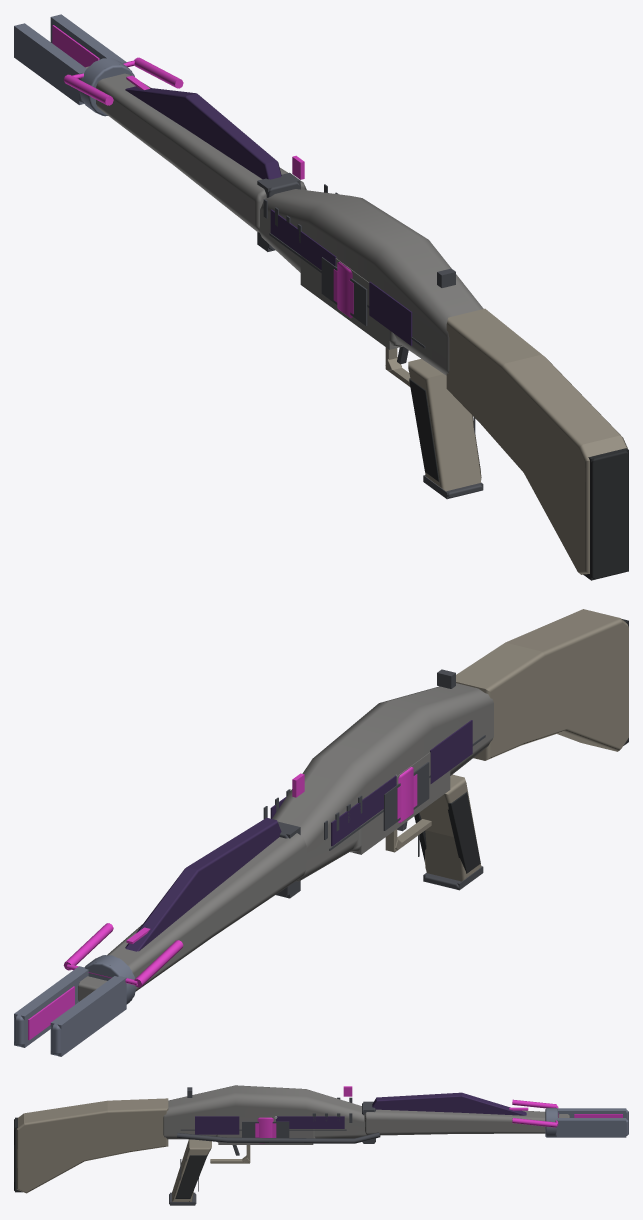
The model's file is qlink.glb.
3 renders of one model, top to bottom at view 1: azimuth 30°, elevation 25°; view 2: azimuth 150°, elevation 25°; view 3: azimuth 270°, elevation 25°, orthographic. The views are drawn at different scales.
Parts seen in each view (by area): view 1: L0, L1; view 2: L0, L1; view 3: L0, L1.
Boxes of the visible parts, x1,y1,x2,y2 form: L0: [14, 15, 628, 579]; L1: [14, 14, 628, 580]; L0: [14, 609, 628, 1055]; L1: [14, 620, 628, 1056]; L0: [14, 1085, 628, 1204]; L1: [15, 1099, 626, 1205].
Size of the model in its own units: 0.0772 by 0.1989 by 0.9718.
